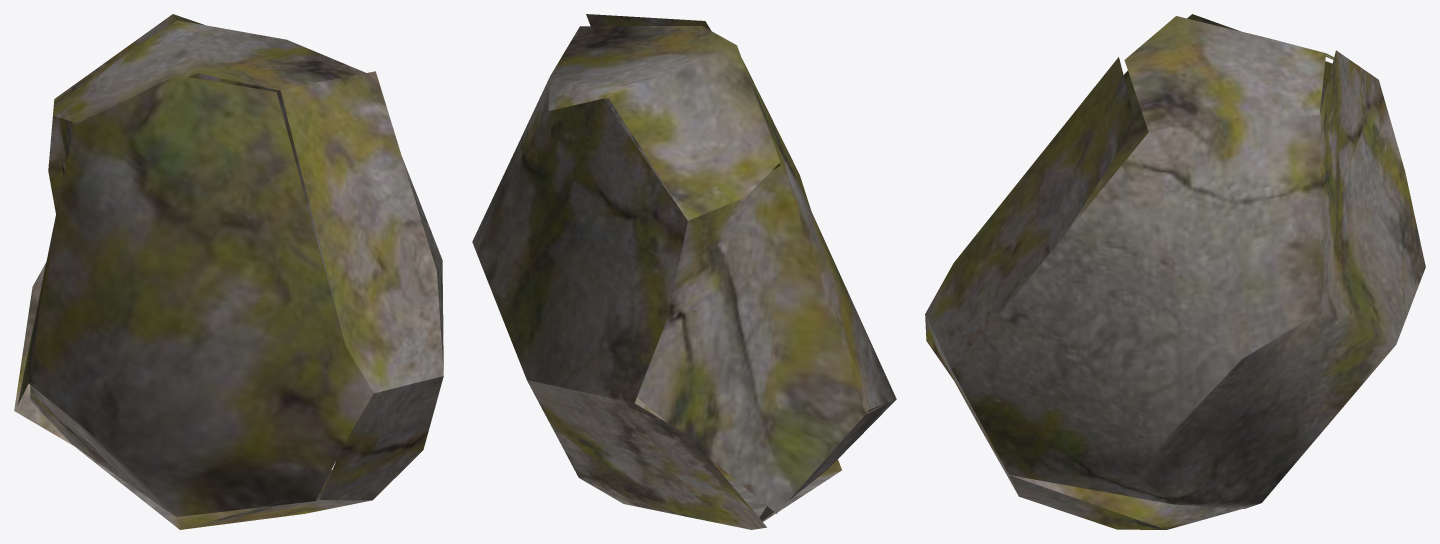
Rendered from rock_009.glb.
3 renders of one model, left to right at view 1: azimuth 30°, elevation 25°; view 2: azimuth 150°, elevation 25°; view 3: azimuth 270°, elevation 25°, orthographic. The views are drawn at different scales.
Visible parts, largest first — view 1: rock.009; view 2: rock.009; view 3: rock.009.
Boxes of the visible parts, x1,y1,x2,y2 form: rock.009: (14,14,443,529); rock.009: (472,14,896,529); rock.009: (925,14,1425,529).
Size of the model in its own units: 0.5627 by 0.6421 by 0.6176.
Materials: 1 (1 with a texture image).
